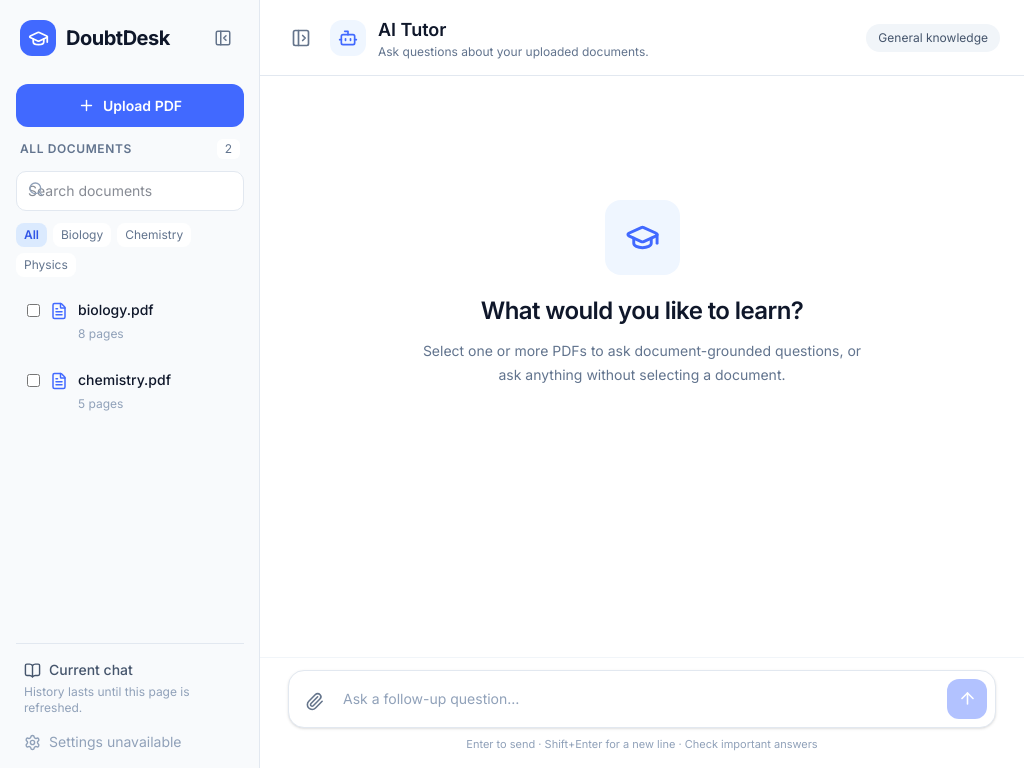
Test: DoubtDesk interactions › filters documents by subject
Expected: the text "biology.pdf" is shown, [78, 300, 154, 320]
Click the button "Biology" at (82, 235), box [53, 223, 111, 247]
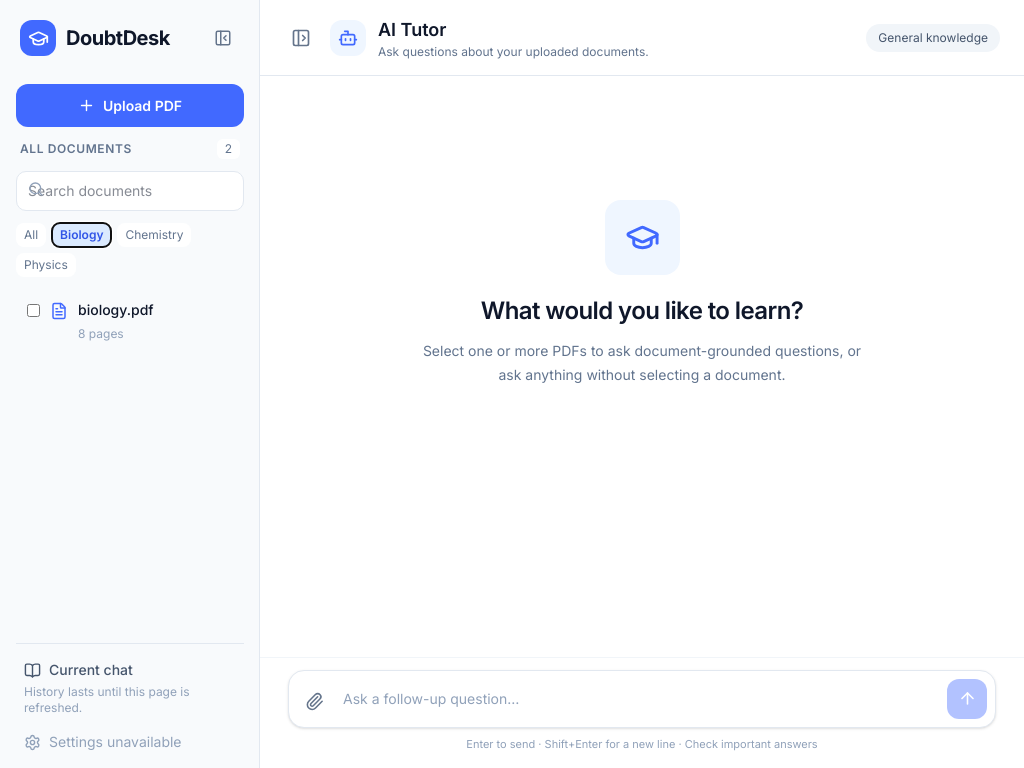
Expected: the text "biology.pdf" is shown, [78, 300, 154, 320]
Result: the text "chemistry.pdf" is gone
